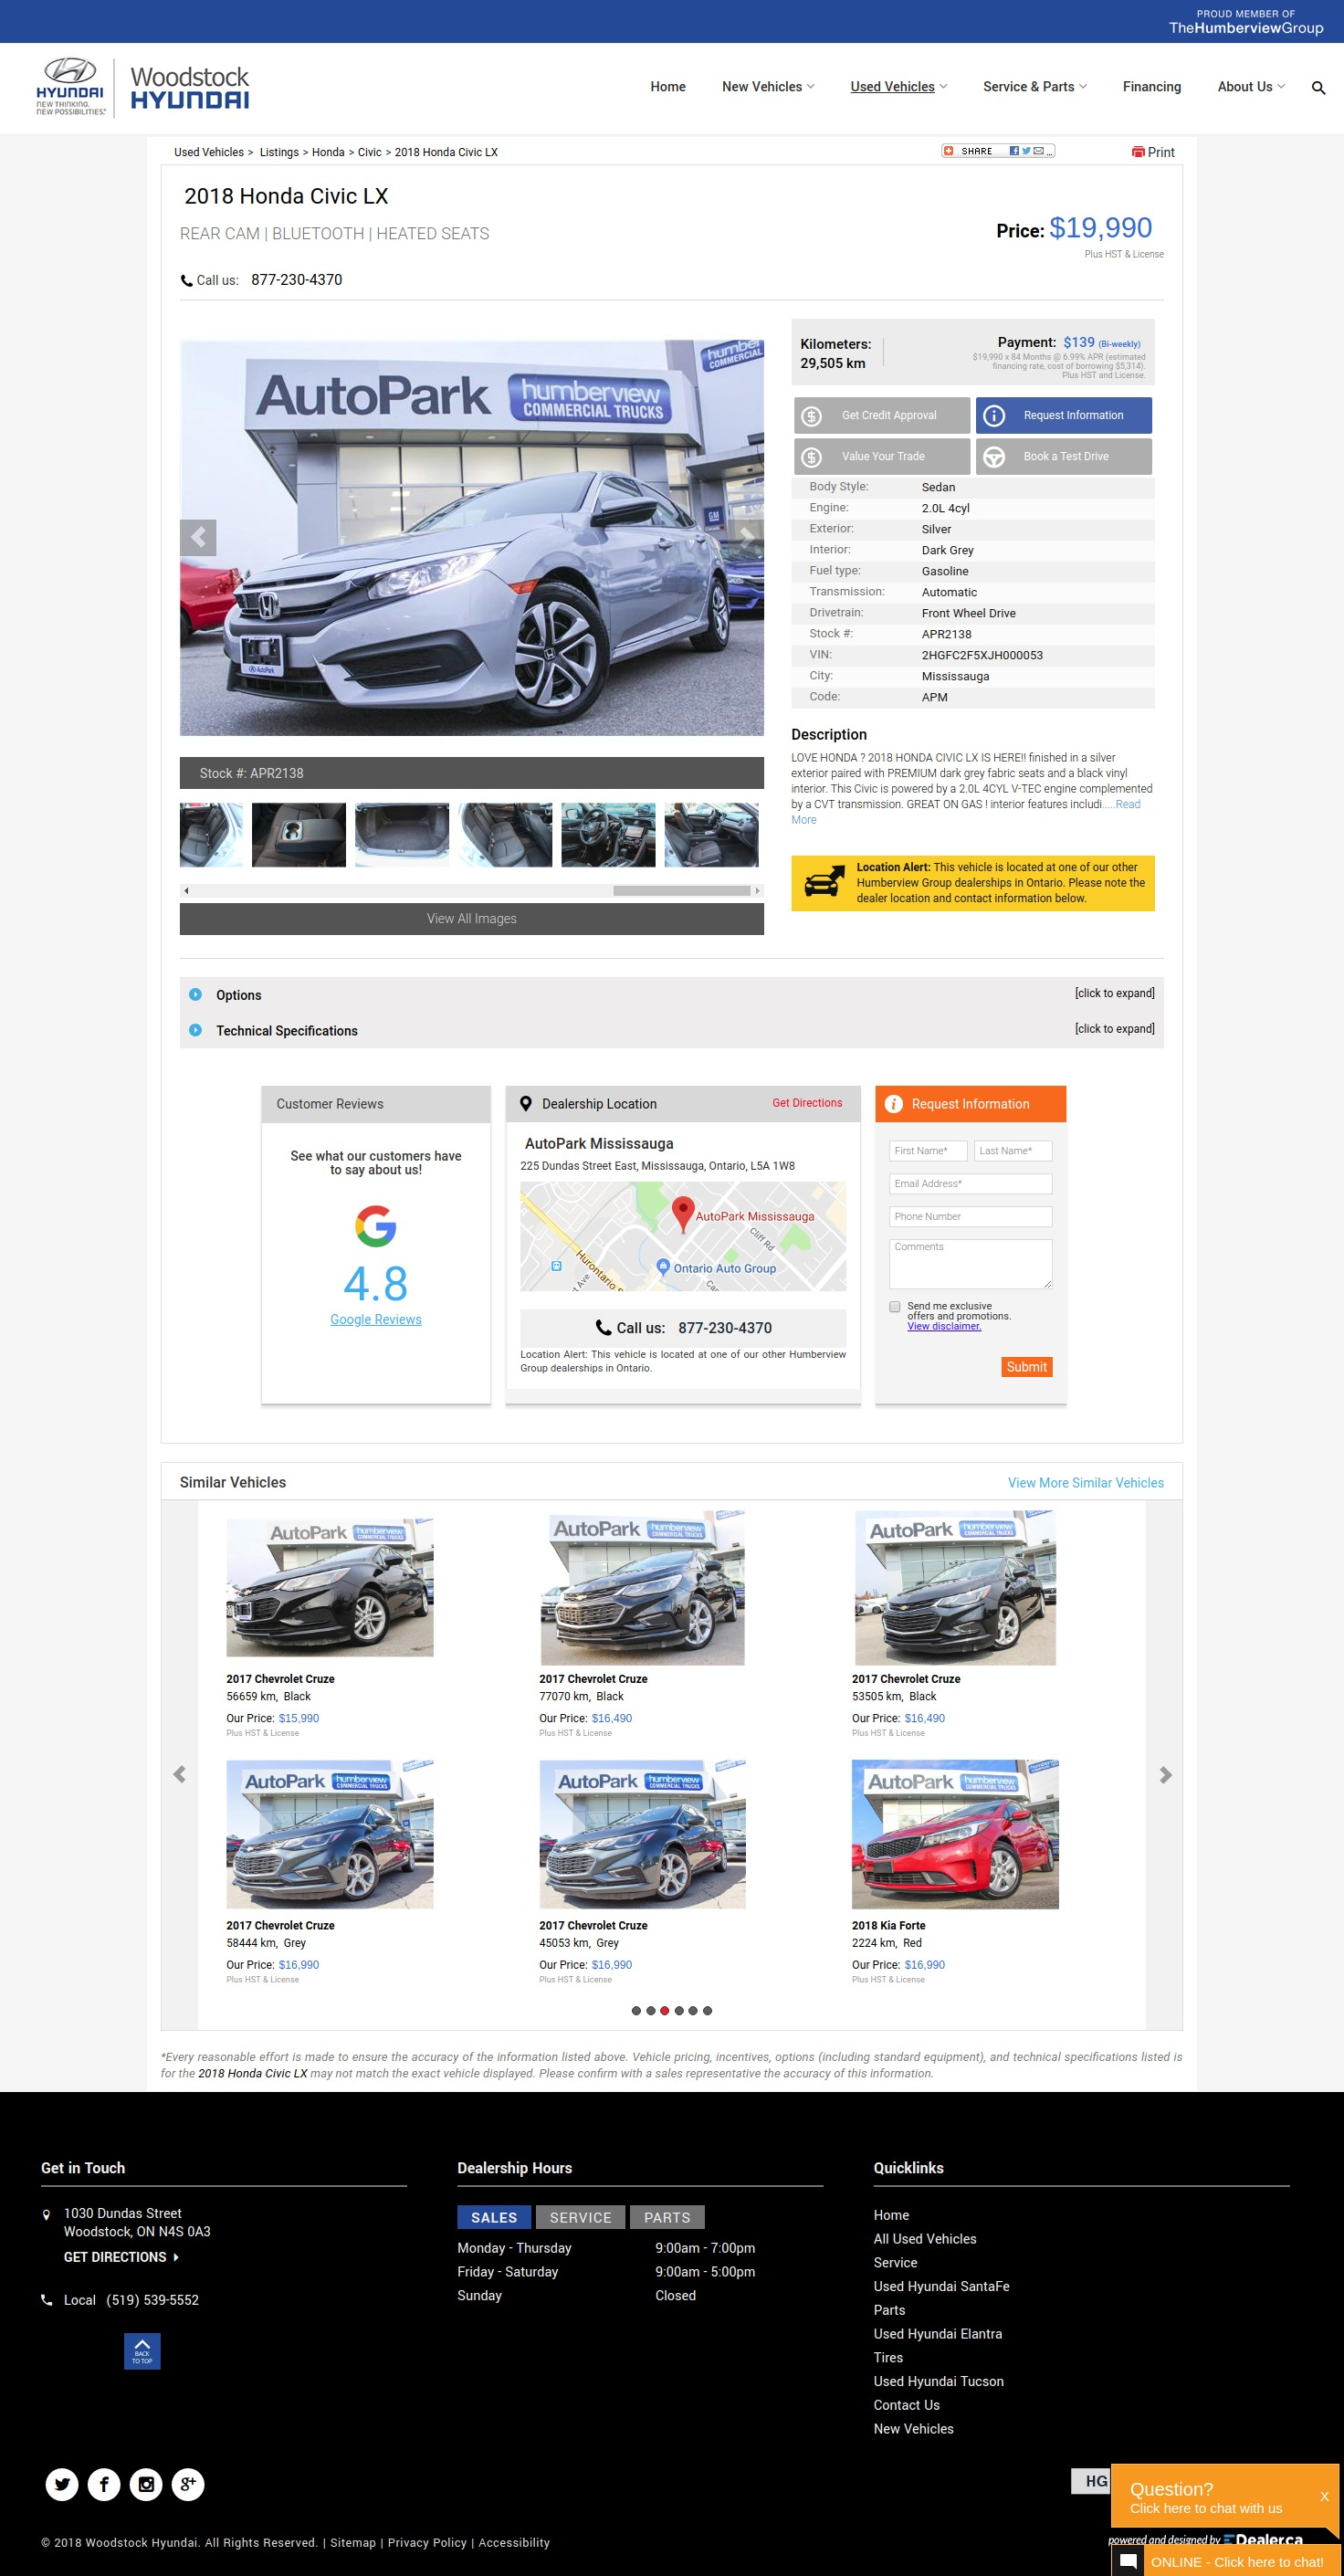car: (756, 888, 760, 894)
